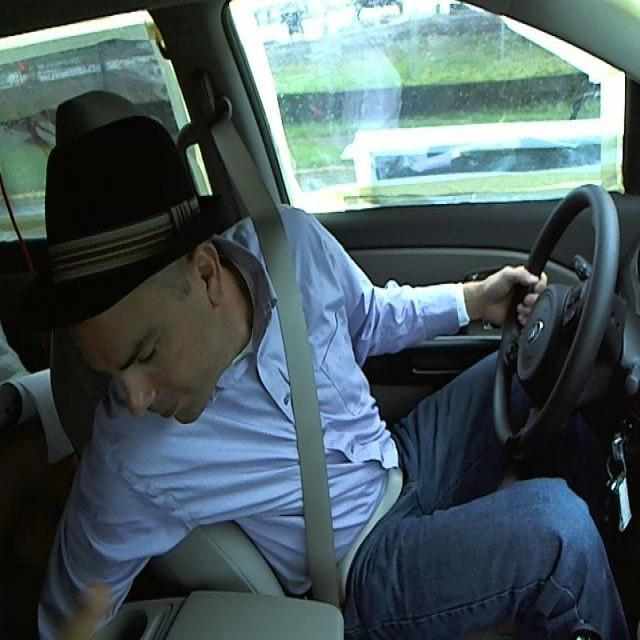seatbelt: (266, 242, 414, 630)
